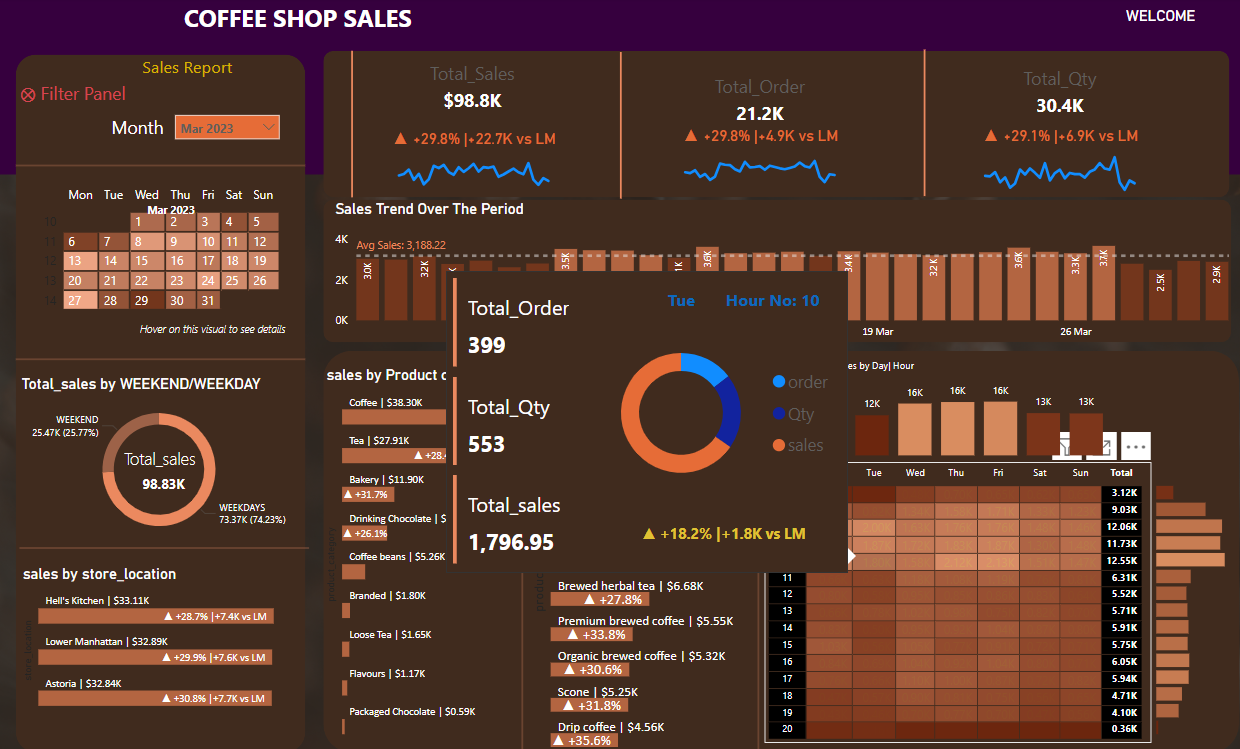

The dashboard page shown, as its layout file describes it:
{"tool":"powerbi","page":{"name":"Page 1","canvas":[1400,850],"ordinal":0},"visuals":[{"type":"shape","box":[366.2,397.7,1029.6,451.8],"z":0},{"type":"shape","box":[0,0,1400.3,199.6],"z":1000},{"type":"shape","box":[21,64.5,325.7,785],"z":2000},{"type":"shape","box":[366.2,60,1020.6,165.1],"z":3000},{"type":"slicer","title":"Month","fields":{"Values":["Date_Master.month"]},"box":[195.4,122.9,127.3,54.8],"z":4000},{"type":"card","fields":{"Values":["Sum(coffee_shop_sales_new coffee shop sales_new.sale)"]},"box":[451.8,67.5,166.6,75],"z":5000},{"type":"shape","box":[375.2,60,48,165.1],"z":6000},{"type":"lineChart","fields":{"Category":["Date_Master.Date.Variation.Date Hierarchy.Year","Date_Master.Date.Variation.Date Hierarchy.Quarter","Date_Master.Date.Variation.Date Hierarchy.Month","Date_Master.Date.Variation.Date Hierarchy.Day"],"Series":["Date_Master.month year"],"Y":["coffee_shop_sales_new coffee shop sales_new.Total_Order"]},"box":[436.8,148.6,198.1,79.5],"z":7000},{"type":"shape","box":[676.9,61.5,48,165.1],"z":8000},{"type":"card","fields":{"Values":["coffee_shop_sales_new coffee shop sales_new.Total_Order"]},"box":[774.4,81,166.6,75],"z":9000},{"type":"lineChart","fields":{"Y":["coffee_shop_sales_new coffee shop sales_new.Total_sales"],"Category":["Date_Master.Date.Variation.Date Hierarchy.Year","Date_Master.Date.Variation.Date Hierarchy.Quarter","Date_Master.Date.Variation.Date Hierarchy.Month","Date_Master.Date.Variation.Date Hierarchy.Day"],"Series":["Date_Master.month year"]},"box":[759.4,144.1,198.1,79.5],"z":10000},{"type":"shape","box":[1019.1,58.5,48,165.1],"z":11000},{"type":"card","fields":{"Values":["coffee_shop_sales_new coffee shop sales_new.Total_Qty"]},"box":[1112.1,73.5,166.6,75],"z":12000},{"type":"lineChart","fields":{"Category":["Date_Master.Date.Variation.Date Hierarchy.Year","Date_Master.Date.Variation.Date Hierarchy.Quarter","Date_Master.Date.Variation.Date Hierarchy.Month","Date_Master.Date.Variation.Date Hierarchy.Day"],"Series":["Date_Master.month year"],"Y":["coffee_shop_sales_new coffee shop sales_new.Total_Qty"]},"box":[1095.6,144.1,198.1,79.5],"z":13000},{"type":"pivotTable","fields":{"Columns":["Date_Master.Day_Name"],"Rows":["Date_Master.weeknum"],"Values":["Min(Date_Master.day number)"]},"box":[42,207.1,283.7,186.1],"z":14000},{"type":"card","fields":{"Values":["Min(Date_Master.month year)"]},"box":[126.1,228.1,139.6,28.5],"z":15000},{"type":"card","fields":{"Values":["Date_Master.Foot note"]},"box":[120.1,360.2,246.1,33],"z":16000},{"type":"shape","box":[21,388.7,325.7,36],"z":17000},{"type":"shape","box":[21,171.1,325.7,36],"z":18000},{"type":"donutChart","fields":{"Category":["Date_Master.WEEKEND/WEEKDAY"],"Y":["coffee_shop_sales_new coffee shop sales_new.Total_sales"]},"box":[22.5,424.7,319.7,195.1],"z":19000},{"type":"card","title":"Total_sales","fields":{"Values":["coffee_shop_sales_new coffee shop sales_new.Total_sales"]},"box":[138.1,505.8,99.1,63],"z":20000},{"type":"clusteredBarChart","title":"sales by store_location","fields":{"Category":["coffee_shop_sales_new coffee shop sales_new.store_location"],"Y":["Date_Master.Placeholder","coffee_shop_sales_new coffee shop sales_new.Total_sales"]},"box":[24,637.9,321.2,166.6],"z":21000},{"type":"shape","box":[25.5,601.8,325.7,36],"z":22000},{"type":"shape","box":[366.2,228.1,1020.6,160.6],"z":23000},{"type":"columnChart","title":"Sales Trend Over The Period","fields":{"Y":["coffee_shop_sales_new coffee shop sales_new.Total_sales"],"Category":["coffee_shop_sales_new coffee shop sales_new.transaction_date"]},"box":[375.2,228.1,1020.6,165.1],"z":24000},{"type":"clusteredBarChart","title":"sales by Product category","fields":{"Y":["Date_Master.Placeholder","coffee_shop_sales_new coffee shop sales_new.Total_sales"],"Category":["coffee_shop_sales_new coffee shop sales_new.product_category"]},"box":[365.6,414.5,241.3,420.4],"z":25000},{"type":"clusteredBarChart","title":"sales by Product category","fields":{"Y":["Date_Master.Placeholder","coffee_shop_sales_new coffee shop sales_new.Total_sales"],"Category":["coffee_shop_sales_new coffee shop sales_new.product_type"]},"box":[596.5,423.3,279.8,426.3],"z":26000},{"type":"shape","box":[573.3,397.7,34.5,451.8],"z":27000},{"type":"shape","box":[839.3,398.2,34,451.5],"z":28000},{"type":"pivotTable","fields":{"Columns":["Date_Master.Day_Name"],"Rows":["coffee_shop_sales_new coffee shop sales_new.Hour"],"Values":["coffee_shop_sales_new coffee shop sales_new.Total_sales"]},"box":[863,522.5,435.2,316.8],"z":29000},{"type":"barChart","fields":{"Category":["coffee_shop_sales_new coffee shop sales_new.Hour"],"Y":["coffee_shop_sales_new coffee shop sales_new.Total_sales"]},"box":[1298.2,537.3,102.1,297.5],"z":30000},{"type":"columnChart","title":"Total_sales by Day| Hour","fields":{"Y":["coffee_shop_sales_new coffee shop sales_new.Total_sales"],"Category":["Date_Master.Day_Name"]},"box":[911.8,407.1,337.5,114],"z":31000},{"type":"textbox","box":[205.8,0,290.1,50.3],"z":32000},{"type":"card","fields":{"Values":["Date_Master.Month1"]},"box":[111,131.7,94.7,32.6],"z":33000},{"type":"card","fields":{"Values":["coffee_shop_sales_new coffee shop sales_new.Title"]},"box":[137.7,65.1,153.9,32.6],"z":34000},{"type":"card","fields":{"Values":["coffee_shop_sales_new coffee shop sales_new.Filter panel"]},"box":[0,94.7,171.7,32.6],"z":35000},{"type":"actionButton","title":"WELCOME","box":[1215.2,11,184.8,56.7],"z":36000}]}

Visuals, with their boxes in screenshot pixels (x1, y1, x2, y2), scaled from the page's 1400x850 canvas onto the 1240x749 screenshot:
shape: bbox=(324, 350, 1236, 748)
shape: bbox=(0, 0, 1239, 176)
shape: bbox=(19, 57, 307, 748)
shape: bbox=(324, 53, 1228, 198)
"Month" slicer: bbox=(173, 108, 286, 157)
card - Sum(coffee_shop_sales_new coffee shop sales_new.sale): bbox=(400, 59, 548, 126)
shape: bbox=(332, 53, 375, 198)
lineChart - Date_Master.Date.Variation.Date Hierarchy.Year x Date_Master.Date.Variation.Date Hierarchy.Quarter: bbox=(387, 131, 562, 201)
shape: bbox=(600, 54, 642, 200)
card - coffee_shop_sales_new coffee shop sales_new.Total_Order: bbox=(686, 71, 833, 137)
lineChart - coffee_shop_sales_new coffee shop sales_new.Total_sales x Date_Master.Date.Variation.Date Hierarchy.Year: bbox=(673, 127, 848, 197)
shape: bbox=(903, 52, 945, 197)
card - coffee_shop_sales_new coffee shop sales_new.Total_Qty: bbox=(985, 65, 1133, 131)
lineChart - Date_Master.Date.Variation.Date Hierarchy.Year x Date_Master.Date.Variation.Date Hierarchy.Quarter: bbox=(970, 127, 1146, 197)
pivotTable - Date_Master.Day_Name x Date_Master.weeknum: bbox=(37, 182, 288, 346)
card - Min(Date_Master.month year): bbox=(112, 201, 235, 226)
card - Date_Master.Foot note: bbox=(106, 317, 324, 346)
shape: bbox=(19, 343, 307, 374)
shape: bbox=(19, 151, 307, 182)
donutChart - Date_Master.WEEKEND/WEEKDAY x coffee_shop_sales_new coffee shop sales_new.Total_sales: bbox=(20, 374, 303, 546)
"Total_sales" card: bbox=(122, 446, 210, 501)
"sales by store_location" clusteredBarChart: bbox=(21, 562, 306, 709)
shape: bbox=(23, 530, 311, 562)
shape: bbox=(324, 201, 1228, 343)
"Sales Trend Over The Period" columnChart: bbox=(332, 201, 1236, 346)
"sales by Product category" clusteredBarChart: bbox=(324, 365, 538, 736)
"sales by Product category" clusteredBarChart: bbox=(528, 373, 776, 748)
shape: bbox=(508, 350, 538, 748)
shape: bbox=(743, 351, 773, 748)
pivotTable - Date_Master.Day_Name x coffee_shop_sales_new coffee shop sales_new.Hour: bbox=(764, 460, 1150, 740)
barChart - coffee_shop_sales_new coffee shop sales_new.Hour x coffee_shop_sales_new coffee shop sales_new.Total_sales: bbox=(1150, 473, 1239, 736)
"Total_sales by Day| Hour" columnChart: bbox=(808, 359, 1107, 459)
textbox: bbox=(182, 0, 439, 44)
card - Date_Master.Month1: bbox=(98, 116, 182, 145)
card - coffee_shop_sales_new coffee shop sales_new.Title: bbox=(122, 57, 258, 86)
card - coffee_shop_sales_new coffee shop sales_new.Filter panel: bbox=(0, 83, 152, 112)
"WELCOME" actionButton: bbox=(1076, 10, 1239, 60)
